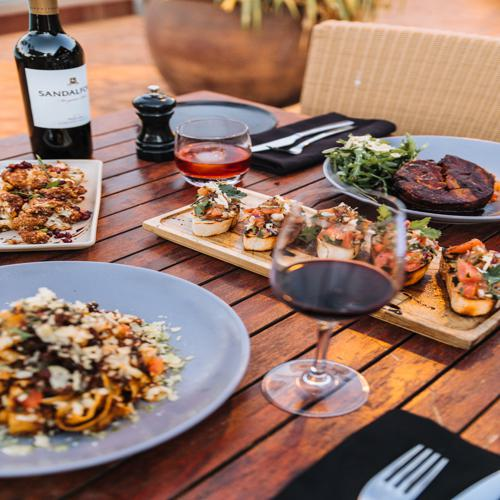copa: (251, 182, 407, 422)
vaso: (171, 121, 253, 186)
